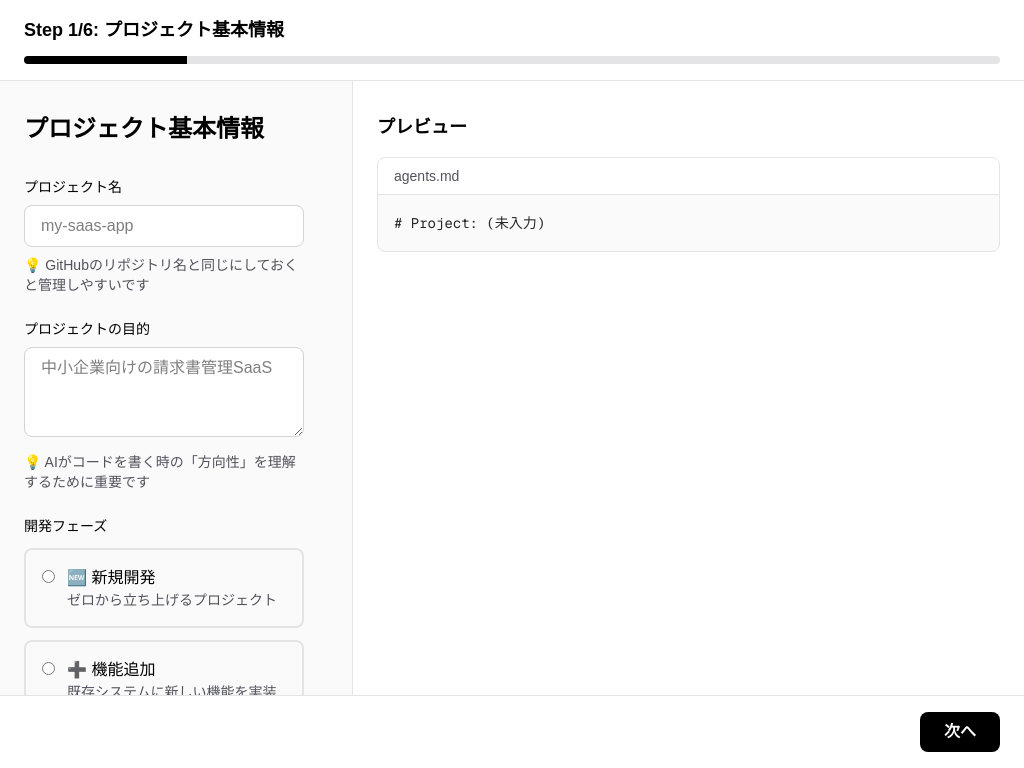
Wizard Page › Preview Area › updates preview when development phase is selected
Click the radio button labelled "🆕 新規開発 ゼロから立ち上げるプロジェクト" at (48,576), box [42,570,55,583]
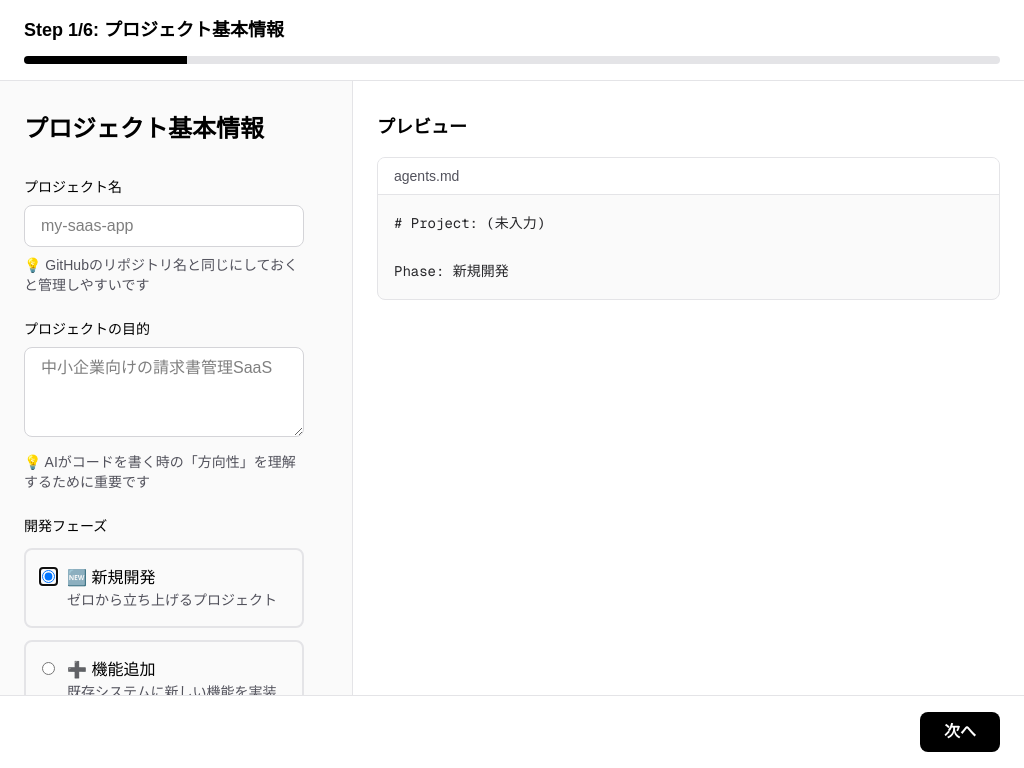
Now the text "# Project: (未入力) Phase: 新規開発" is shown, box [394,214,545,280]
